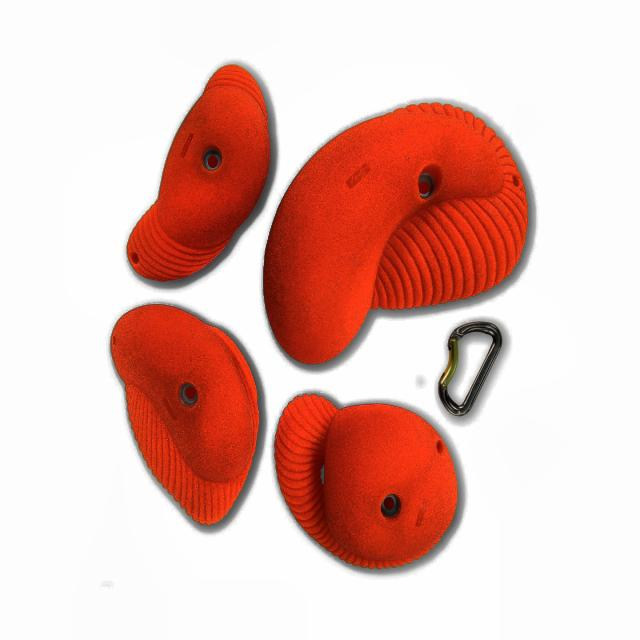Hold: (262, 89, 531, 375), (270, 392, 472, 571), (109, 302, 257, 538), (120, 58, 271, 284)
